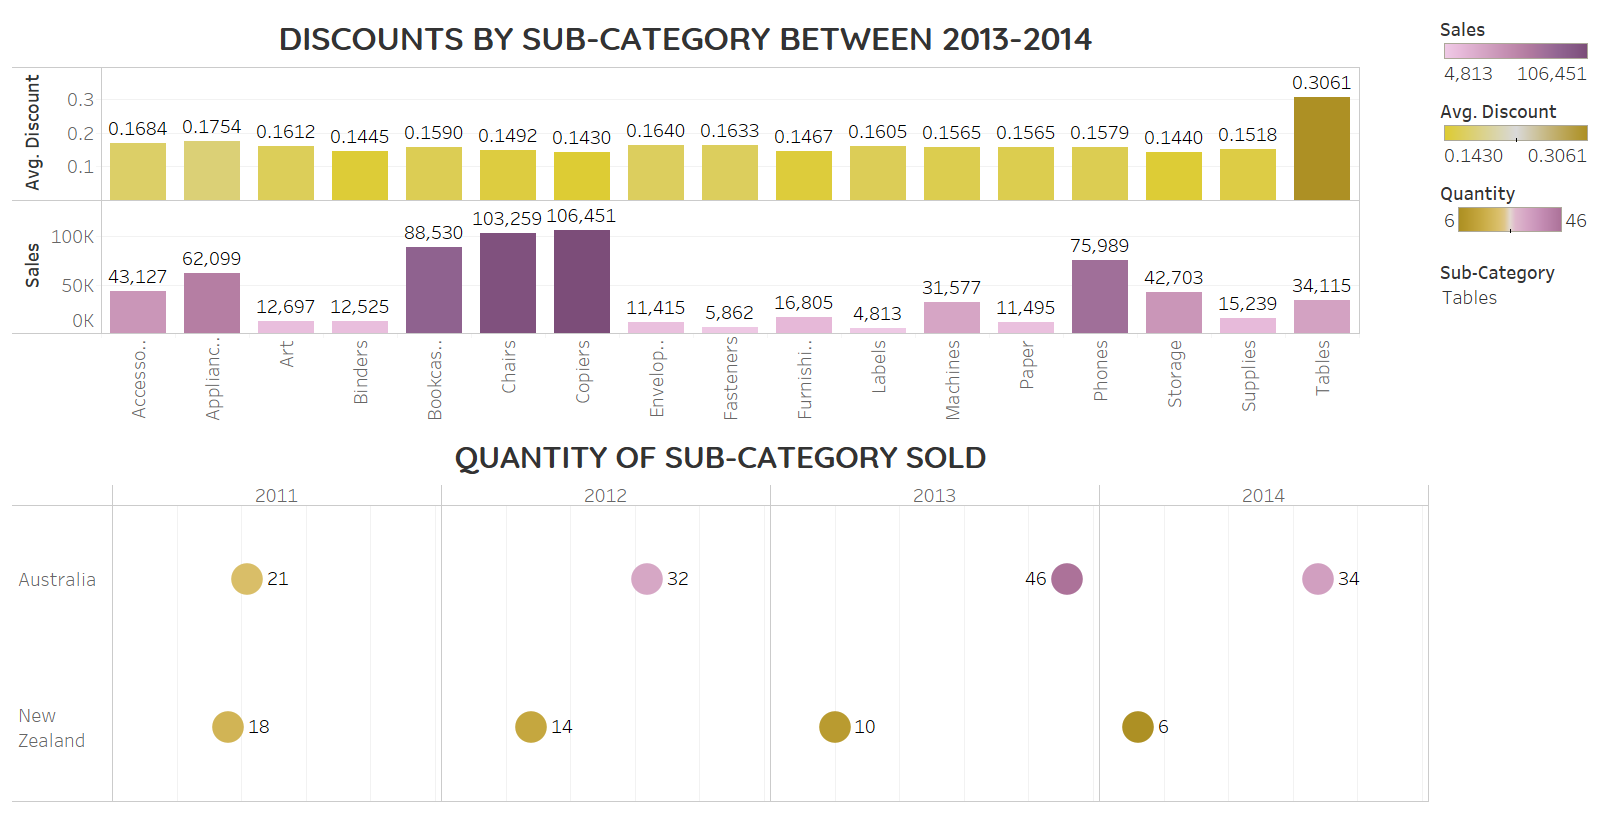

The dashboard page shown, as its layout file describes it:
{"tool":"tableau","page":{"name":"Dashboard 4","canvas":[1000,1000],"units":"permille","ordinal":4},"visuals":[{"type":"worksheet","box":[0,0,1000,1000]},{"type":"worksheet","param":"horz","box":[5,9.8,990,980.4]},{"type":"worksheet","param":"horz","box":[5,9.8,990,980.4]},{"type":"worksheet","param":"horz","box":[5,9.8,990,980.4]},{"type":"worksheet","param":"horz","box":[5,9.8,990,980.4]},{"type":"worksheet","param":"horz","box":[5,9.8,990,980.4]},{"type":"worksheet","box":[5,9.8,990,980.4]},{"type":"worksheet","title":"Discounts by Sub-Category","mark":"Automatic","rows":["Discount","Sales"],"cols":["Sub-Category"],"box":[5,9.8,890.3,513.5]},{"type":"worksheet","title":"Discounts by Sub-Category","mark":"Automatic","rows":["Discount","Sales"],"cols":["Sub-Category"],"param":"[federated.042z3qs0qvl95216848ib0g7yf3s].[sum:Sales:qk]","box":[895.3,9.8,99.8,132]},{"type":"worksheet","title":"Discounts by Sub-Category","mark":"Automatic","rows":["Discount","Sales"],"cols":["Sub-Category"],"param":"[federated.042z3qs0qvl95216848ib0g7yf3s].[avg:Discount:qk]","box":[895.3,141.8,99.8,132]},{"type":"worksheet","title":"Sheet 15","mark":"Circle","rows":["Sub-Category","Country"],"cols":["Order Date","Quantity"],"param":"[federated.042z3qs0qvl95216848ib0g7yf3s].[sum:Quantity:qk]","box":[895.3,273.8,99.8,110]},{"type":"worksheet","title":"Sheet 15","mark":"Circle","rows":["Sub-Category","Country"],"cols":["Order Date","Quantity"],"param":"[federated.042z3qs0qvl95216848ib0g7yf3s].[none:Sub-Category:nk]","box":[895.3,383.9,99.8,69.7]},{"type":"worksheet","box":[895.3,453.5,99.8,69.7]},{"type":"worksheet","title":"Sheet 15","mark":"Circle","rows":["Sub-Category","Country"],"cols":["Order Date","Quantity"],"box":[5,523.2,990,467]}]}

Visuals, with their boxes on the dashboard's canvas, which has no fixed pixel size, in thousandths of its width and height (x1, y1, x2, y2). These are canvas units, not pixel positions in the 1604x818 screenshot, which may show the page scaled, cropped or inside an application window:
worksheet: [left=0, top=0, right=1000, bottom=1000]
worksheet: [left=5, top=10, right=995, bottom=990]
worksheet: [left=5, top=10, right=995, bottom=990]
worksheet: [left=5, top=10, right=995, bottom=990]
worksheet: [left=5, top=10, right=995, bottom=990]
worksheet: [left=5, top=10, right=995, bottom=990]
worksheet: [left=5, top=10, right=995, bottom=990]
"Discounts by Sub-Category" worksheet: [left=5, top=10, right=895, bottom=523]
"Discounts by Sub-Category" worksheet: [left=895, top=10, right=995, bottom=142]
"Discounts by Sub-Category" worksheet: [left=895, top=142, right=995, bottom=274]
"Sheet 15" worksheet (Circle marks): [left=895, top=274, right=995, bottom=384]
"Sheet 15" worksheet (Circle marks): [left=895, top=384, right=995, bottom=454]
worksheet: [left=895, top=454, right=995, bottom=523]
"Sheet 15" worksheet (Circle marks): [left=5, top=523, right=995, bottom=990]
